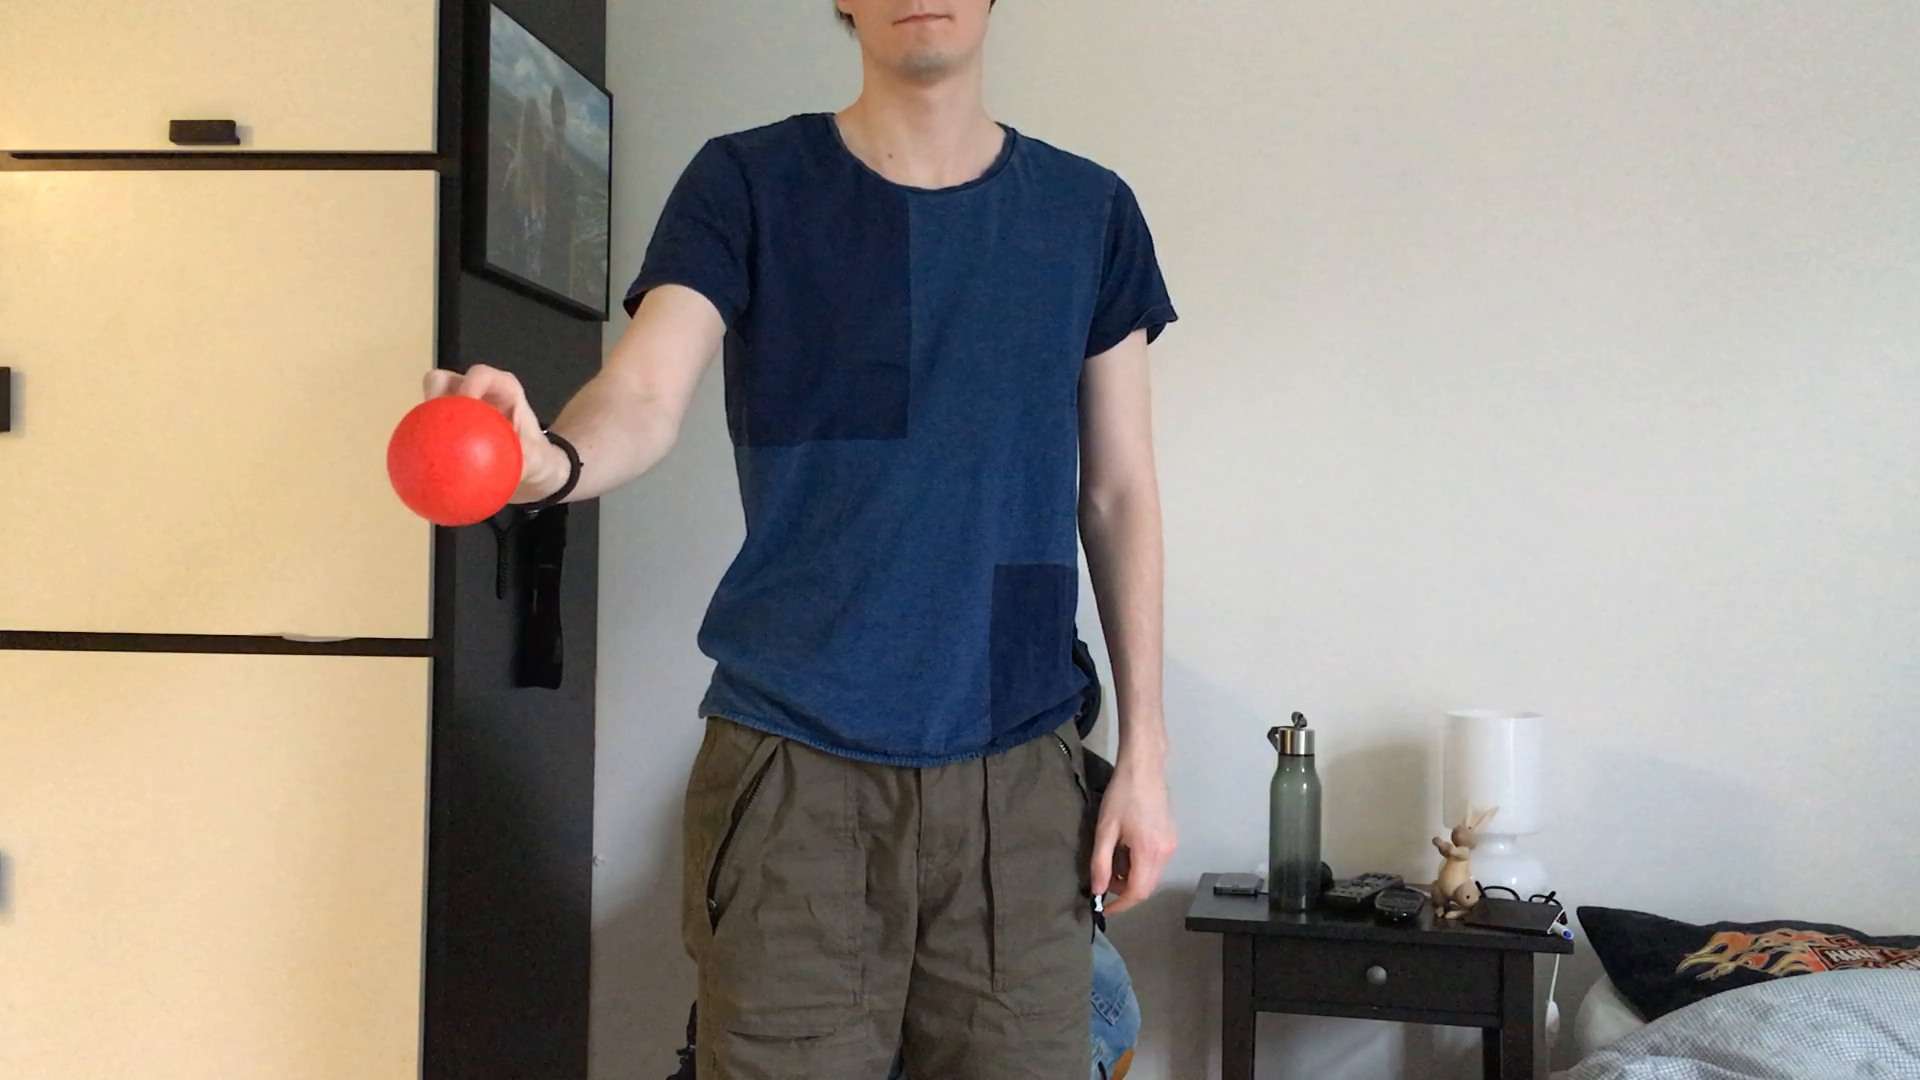Ball: (389, 397, 516, 526)
